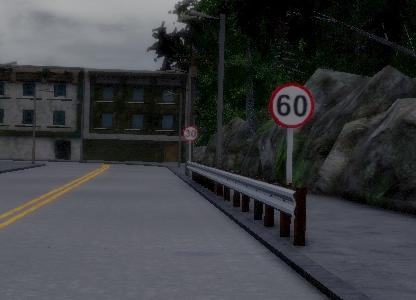Speed_60: (269, 79, 316, 130)
